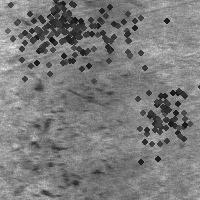rolled-in_scale: (8, 75, 114, 198), (0, 0, 102, 92), (26, 0, 118, 83), (67, 0, 167, 75), (119, 73, 200, 159), (1, 1, 71, 31), (39, 0, 83, 40)
